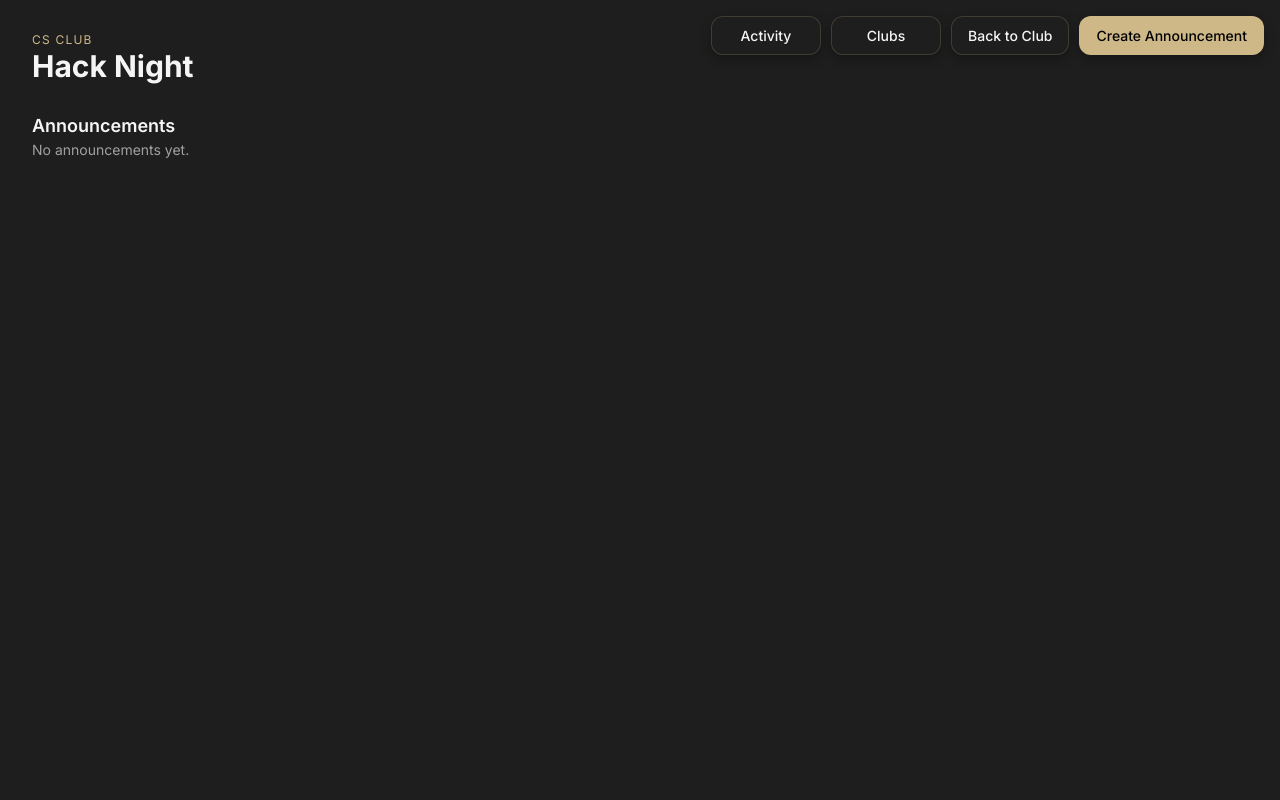
Test: EventPage announcements › shows required error when announcement content is missing
The width and height of the screenshot is (1280, 800).
Click the button "Create Announcement" at (1172, 36), box [1080,16,1264,55]
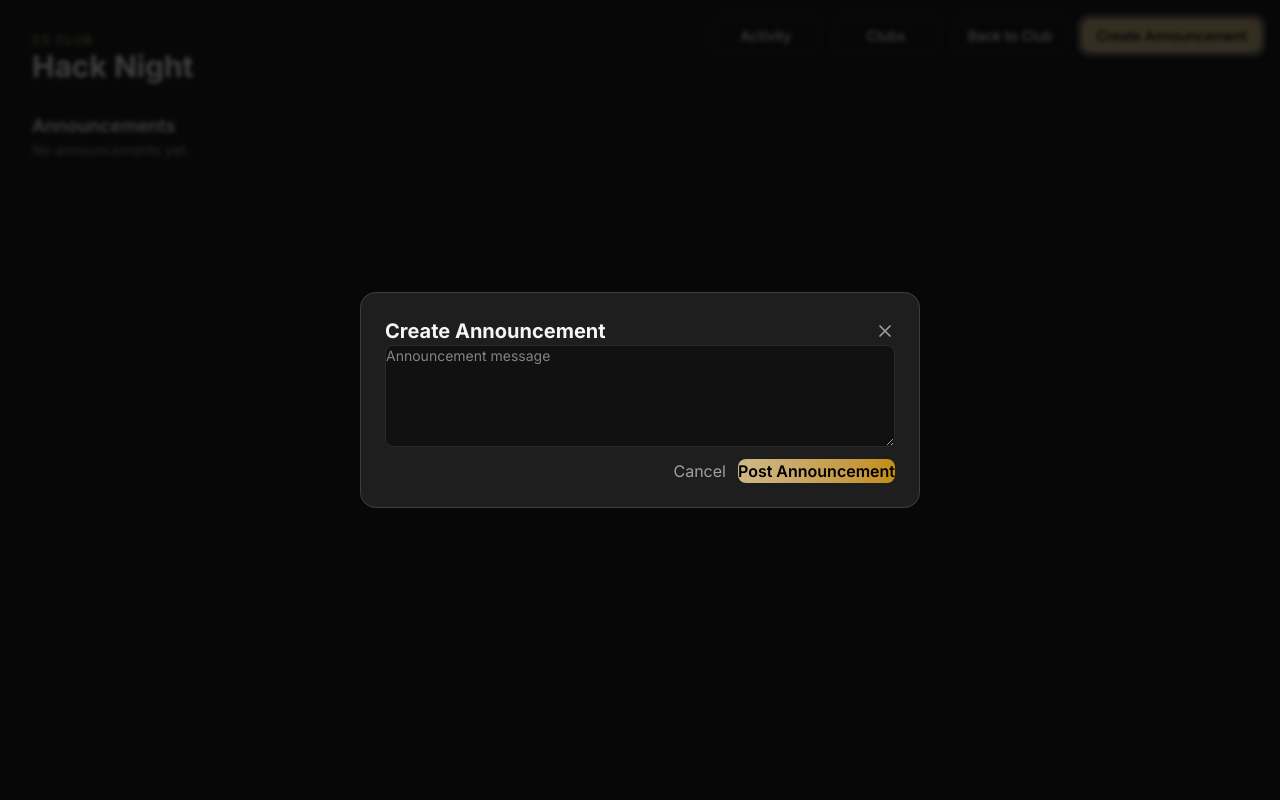
Now the text box with placeholder "Announcement message" is shown, box [385,345,895,447]
Click the button "Post Announcement" at (816, 471), box [738,459,895,483]
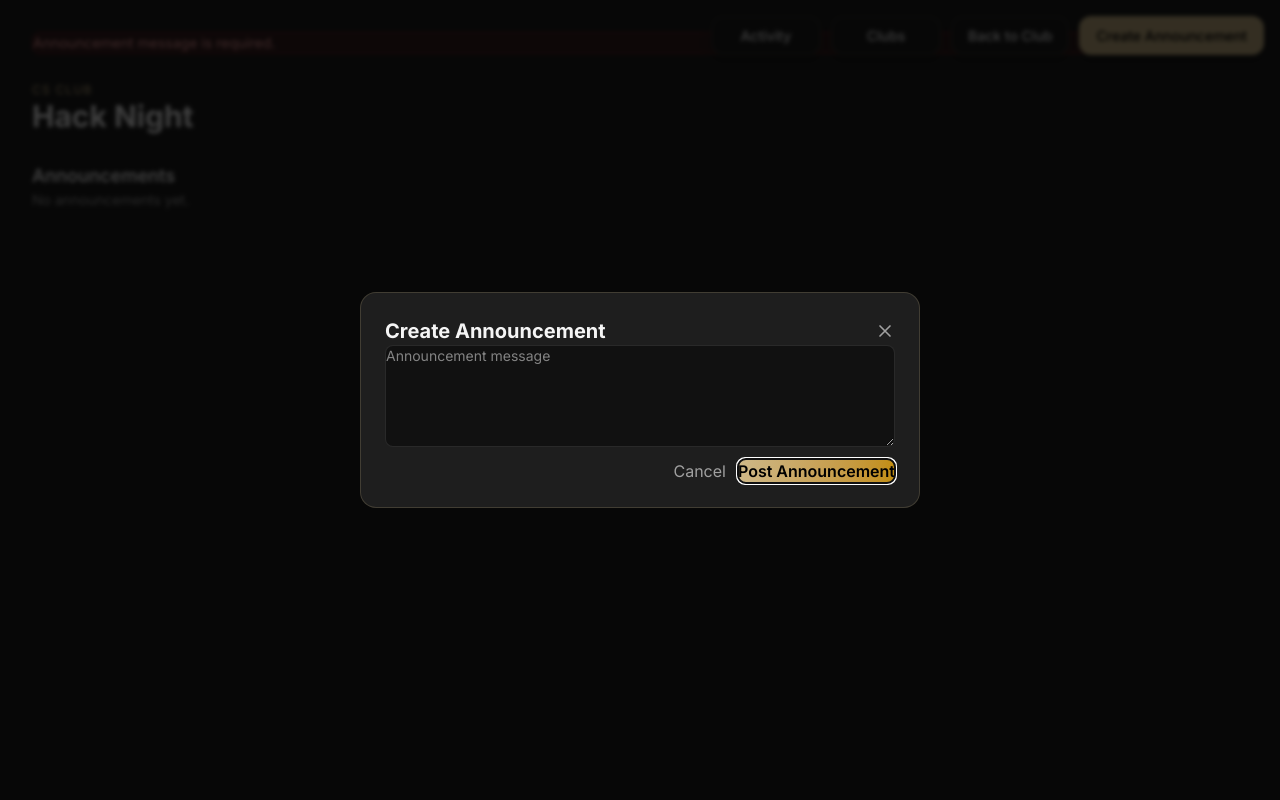
Now the text "Announcement message is required." is shown, box [32,32,1248,54]
